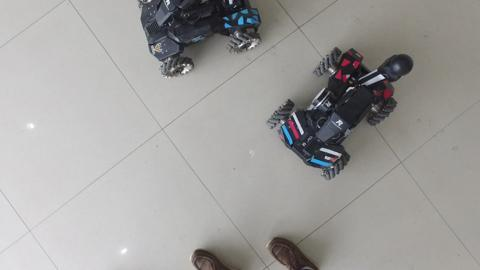chariot: (264, 43, 419, 187), (130, 1, 268, 84)
